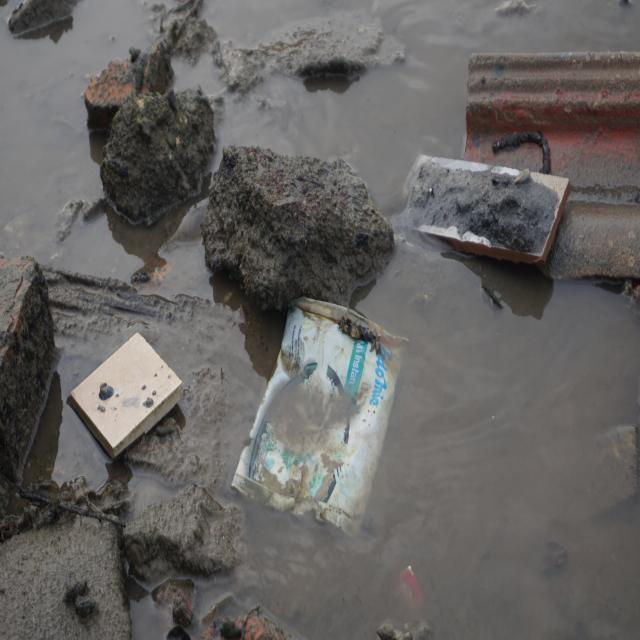Bungkus Makanan: (231, 294, 410, 540)
